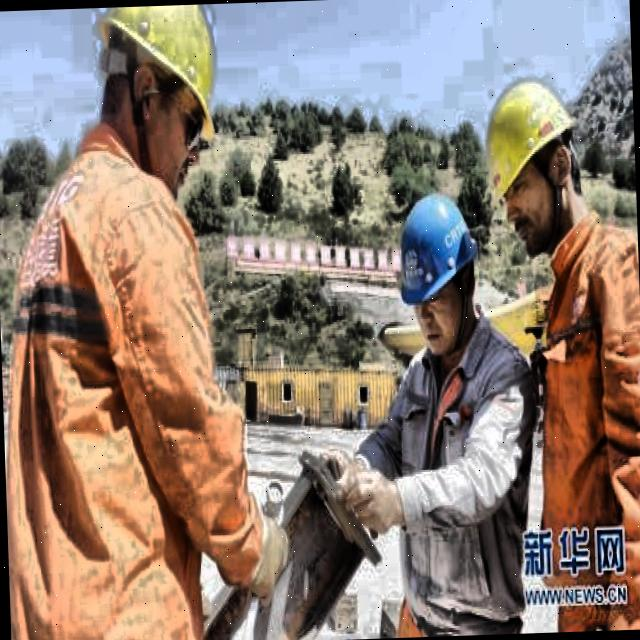helmet: (82, 5, 238, 207), (474, 57, 594, 264), (388, 176, 491, 366)
